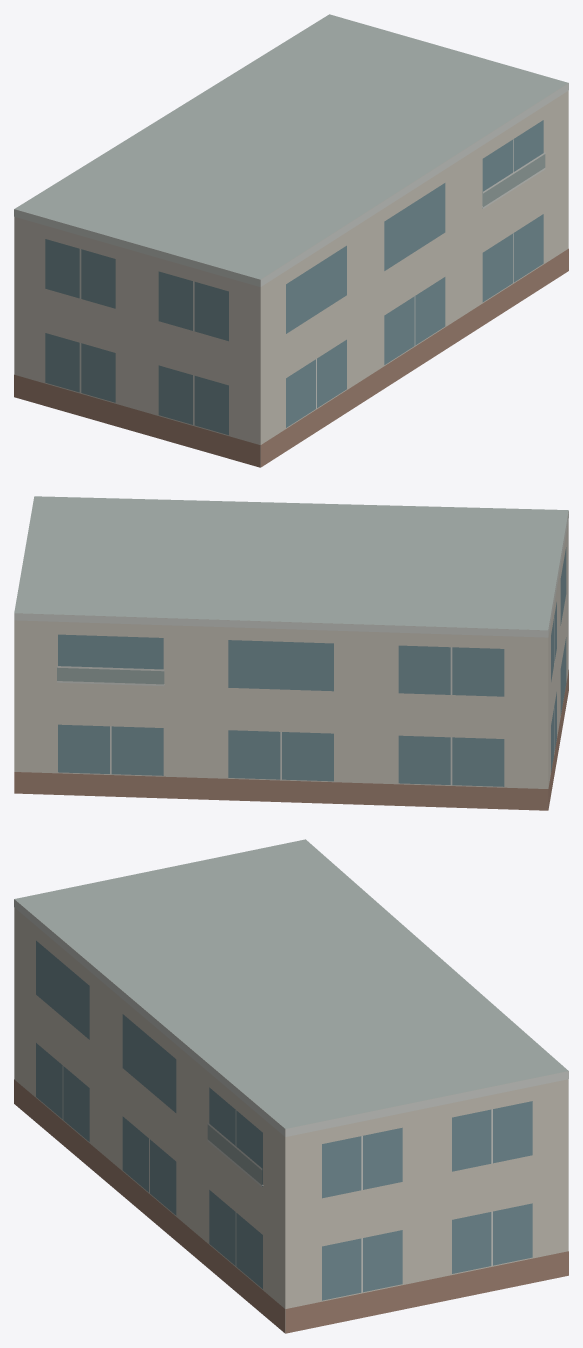
Rendered from survey-upis-32698015.glb.
3 views of the same model, one above another, from view 1: azimuth 30°, elevation 25°; view 2: azimuth 150°, elevation 25°; view 3: azimuth 270°, elevation 25° (orthographic). The views are drawn at different scales.
Parts seen in each view (by area): view 1: survey-upis-32698015.tmp; view 2: survey-upis-32698015.tmp; view 3: survey-upis-32698015.tmp.
Part boxes in pixels (x1,y1,x2,y2): survey-upis-32698015.tmp: [14, 14, 568, 467]; survey-upis-32698015.tmp: [14, 496, 568, 810]; survey-upis-32698015.tmp: [14, 839, 568, 1333].
Size of the model in its own units: 18.53 by 6.1 by 14.99.
